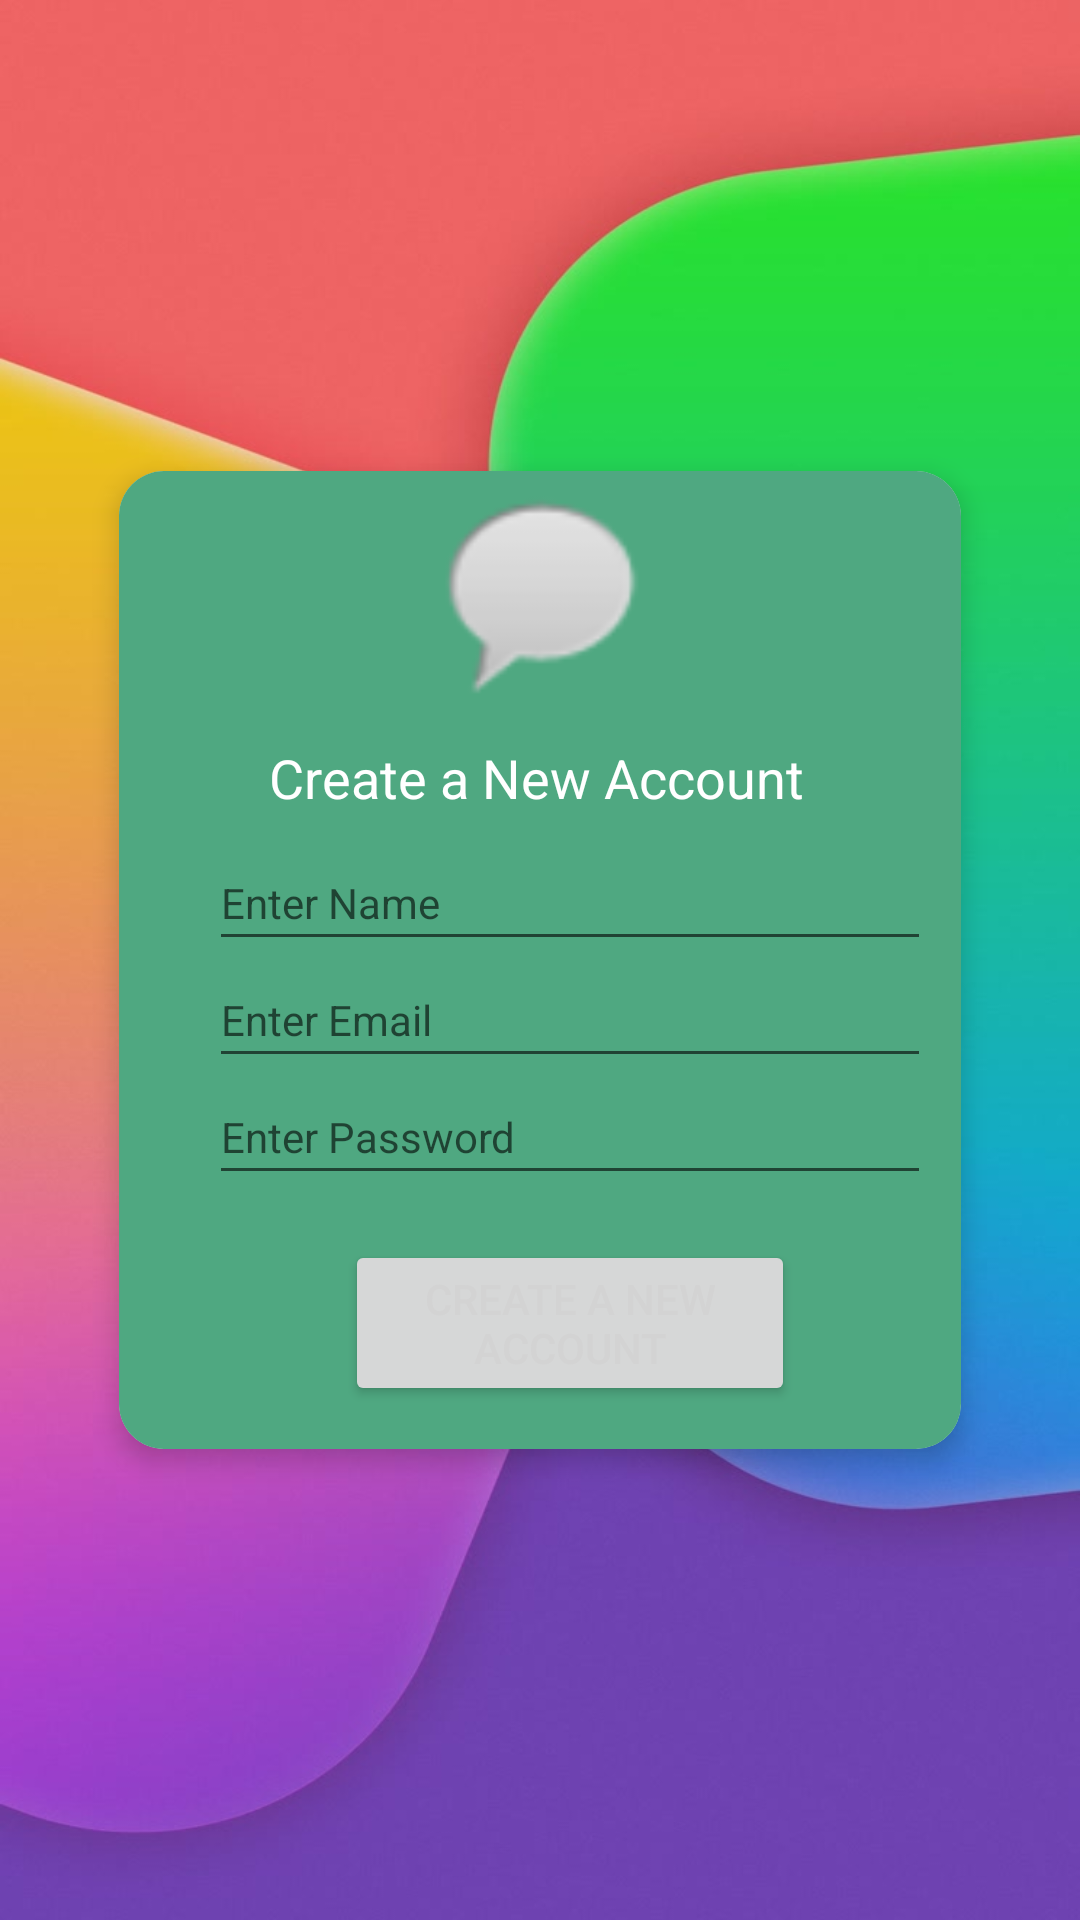

Named icons in this screenshot (1080x1920) and their bounding boxes, bbox=[x1, y1, x2, y2]:
sym action chat: bbox=[449, 503, 635, 691]
